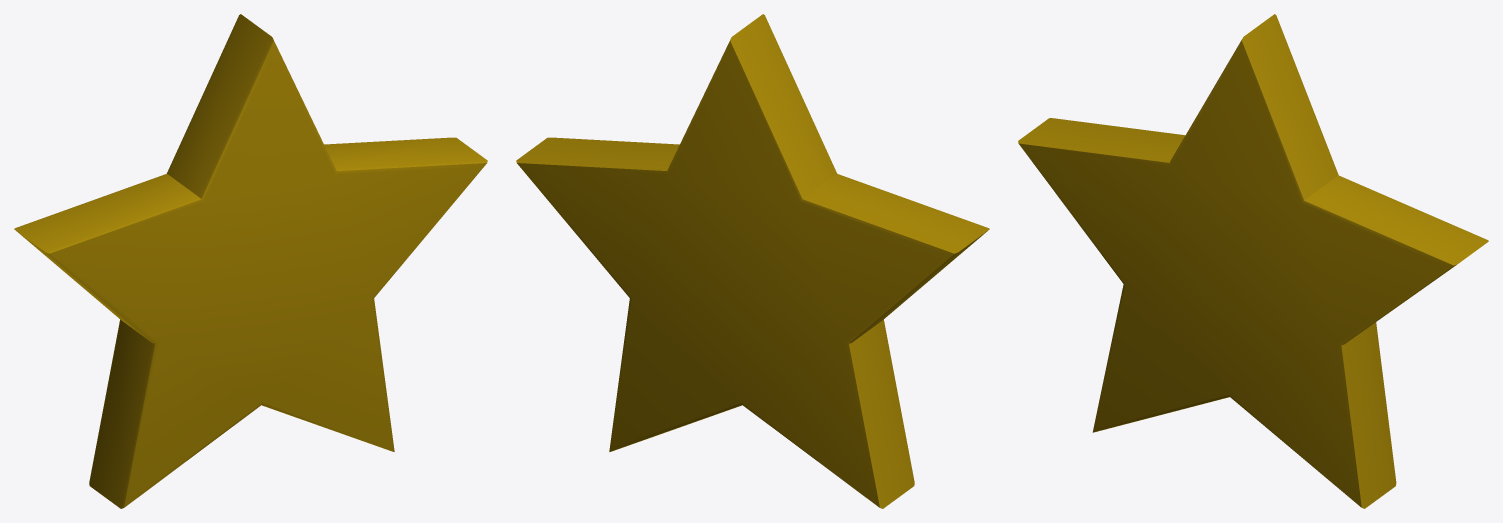
The model's file is Star.FBX.
3 renders of one model, left to right at view 1: azimuth 30°, elevation 25°; view 2: azimuth 150°, elevation 25°; view 3: azimuth 330°, elevation 25°, orthographic.
Visible parts, largest first — view 1: Star001; view 2: Star001; view 3: Star001.
Boxes of the visible parts, box(x1,y1,x2,y2) form: Star001: box(14, 14, 487, 508); Star001: box(516, 14, 989, 508); Star001: box(1018, 14, 1488, 508).
Size of the model in its own units: 27.53 by 26.48 by 3.87.
